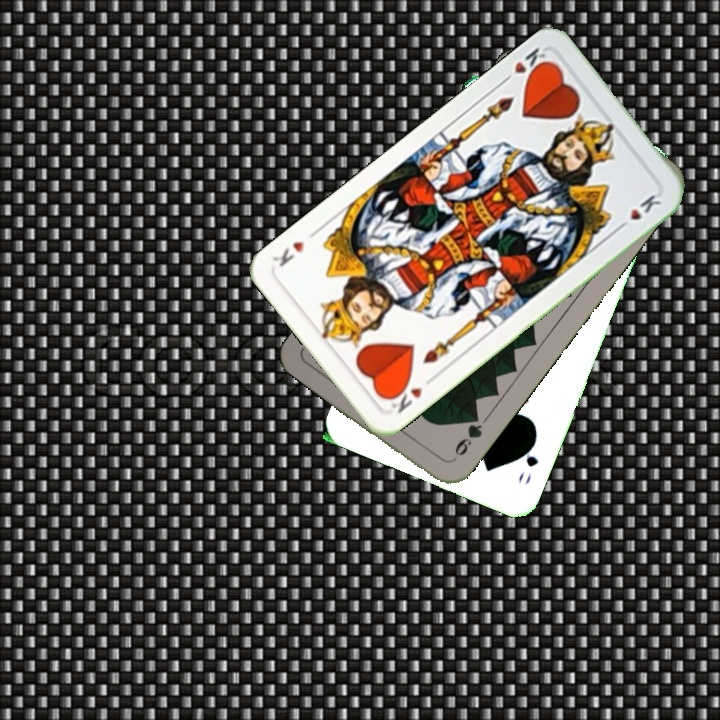G9: (447, 409, 485, 465)
GO: (513, 435, 542, 487)
HK: (497, 43, 554, 87), (382, 372, 437, 416)
